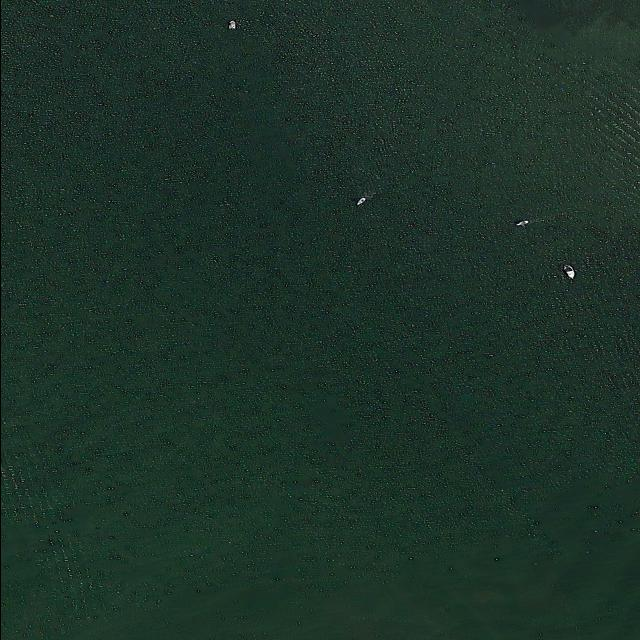ship: (562, 264, 574, 280), (227, 20, 236, 30), (514, 220, 528, 226), (355, 198, 366, 205)
